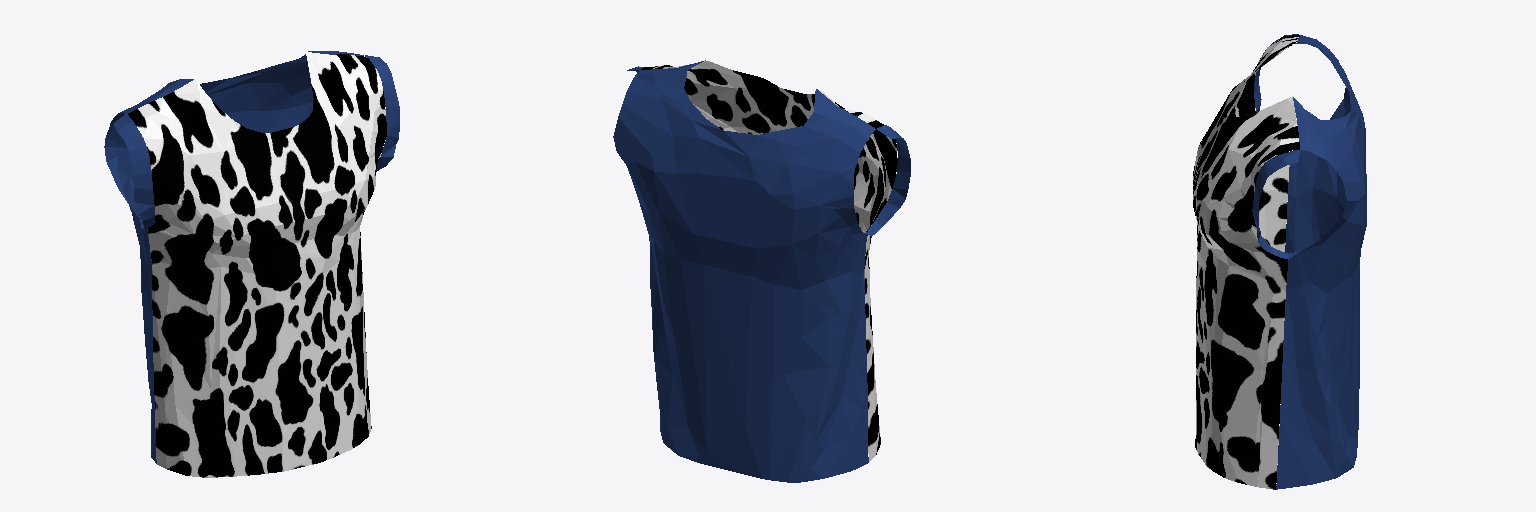
3 renders of one model, left to right at view 1: azimuth 30°, elevation 25°; view 2: azimuth 150°, elevation 25°; view 3: azimuth 270°, elevation 25°, orthographic.
Parts seen in each view (by area): view 1: T_shirt; view 2: T_shirt; view 3: T_shirt.
Boxes of the visible parts, x1,y1,x2,y2 form: T_shirt: [104, 51, 399, 477]; T_shirt: [613, 60, 910, 482]; T_shirt: [1193, 34, 1366, 489].
Bounding box in the file's own units: 0.2935 × 0.3892 × 0.1639.
2 materials, 1 textured.